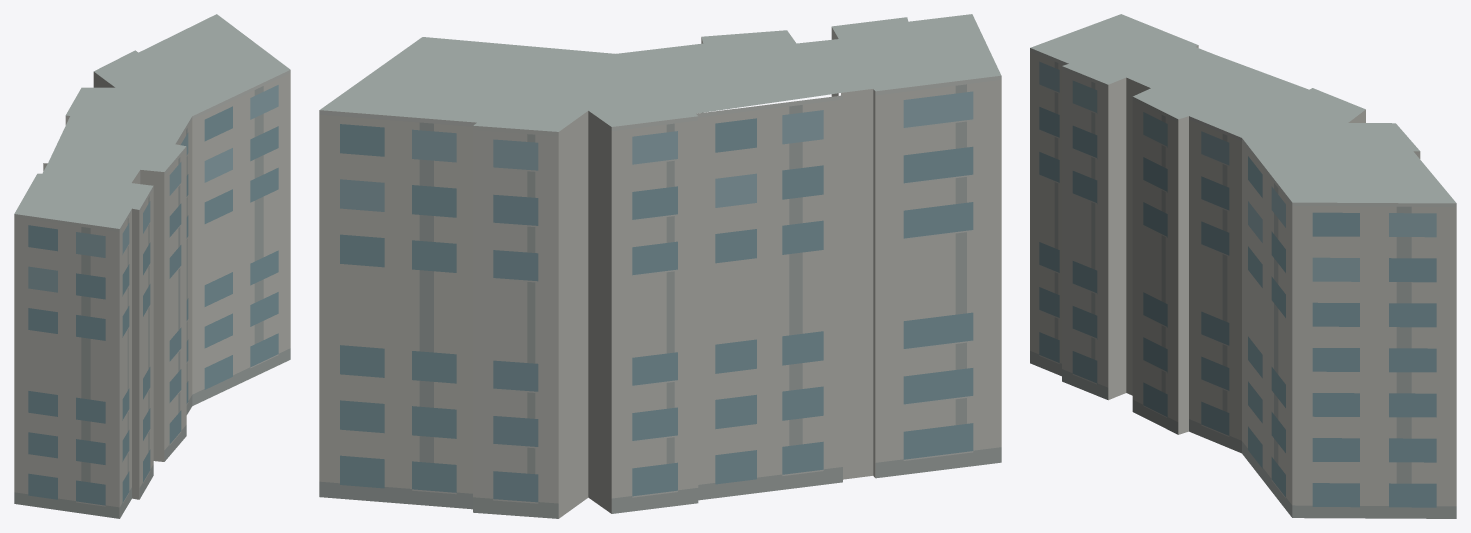
The model's file is survey-upis-32790810.glb.
The picture shows the model from 3 angles, left to right: view 1: azimuth 30°, elevation 25°; view 2: azimuth 150°, elevation 25°; view 3: azimuth 270°, elevation 25°; orthographic projection. The views are drawn at different scales.
Parts seen in each view (by area): view 1: survey-upis-32790810.tmp; view 2: survey-upis-32790810.tmp; view 3: survey-upis-32790810.tmp.
Boxes of the visible parts, x1,y1,x2,y2 form: survey-upis-32790810.tmp: (14,14,290,518); survey-upis-32790810.tmp: (319,14,1001,518); survey-upis-32790810.tmp: (1030,14,1456,518).
Size of the model in its own units: 27.51 by 21.35 by 26.18.
